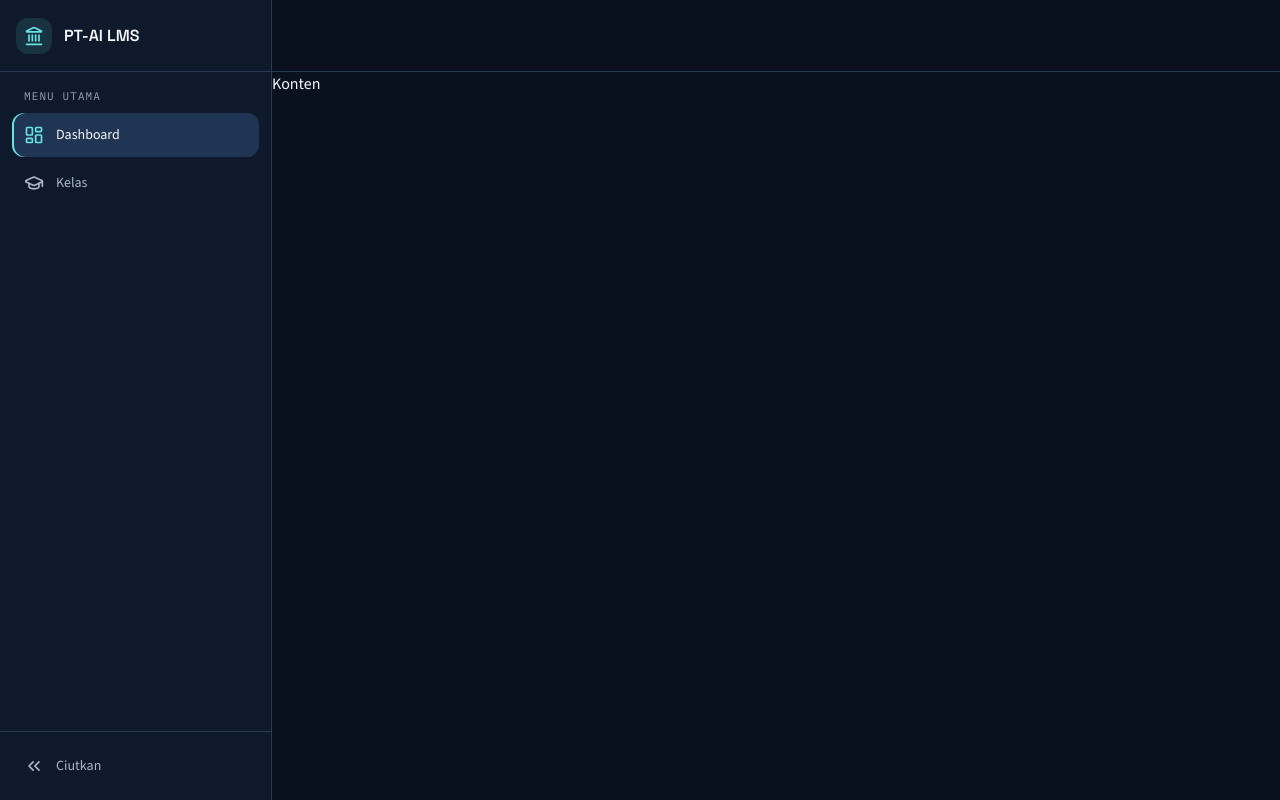
Scenario: AppShell › toggle collapse mengubah state sidebar melalui keyboard/klik
The image size is (1280, 800).
Click the button with aria-label "Ciutkan navigasi" at (136, 766), box [12,744,259,788]
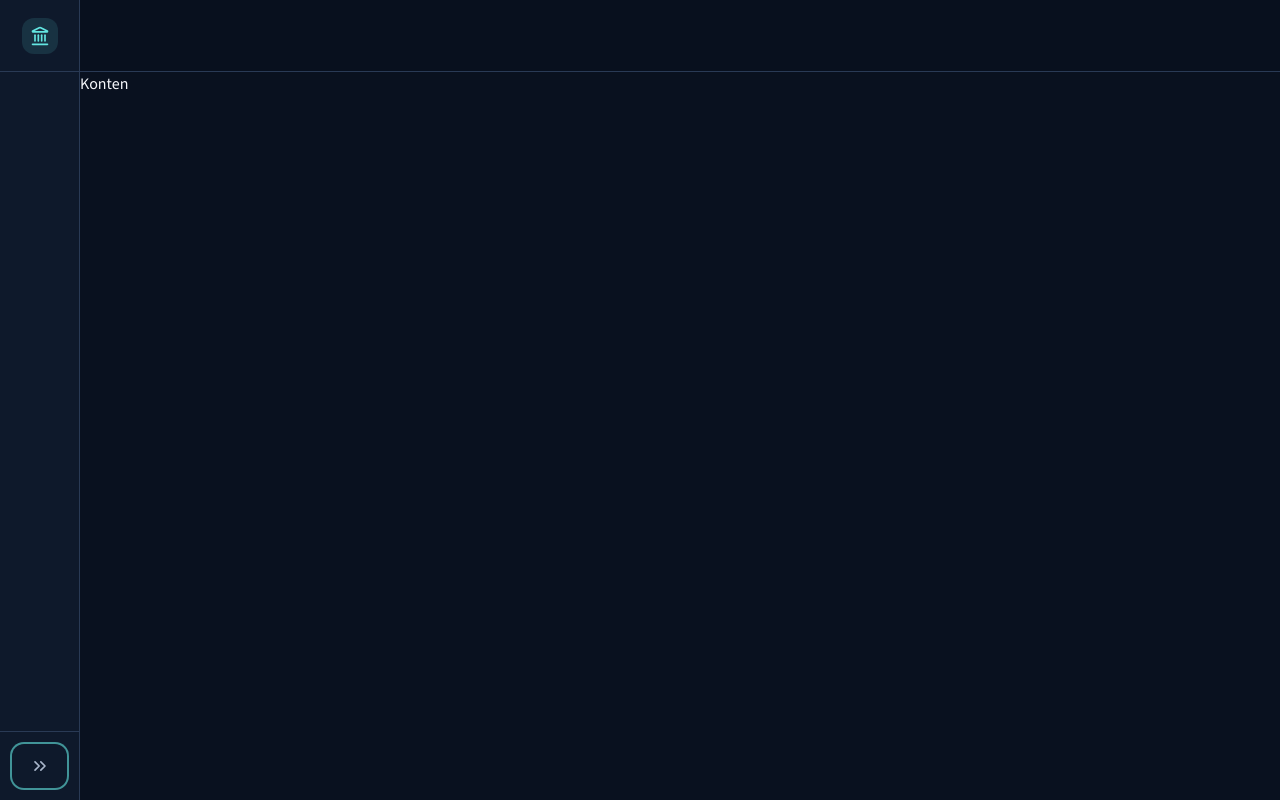
Now the button named "Bentangkan navigasi" is shown, box [12,744,67,788]
